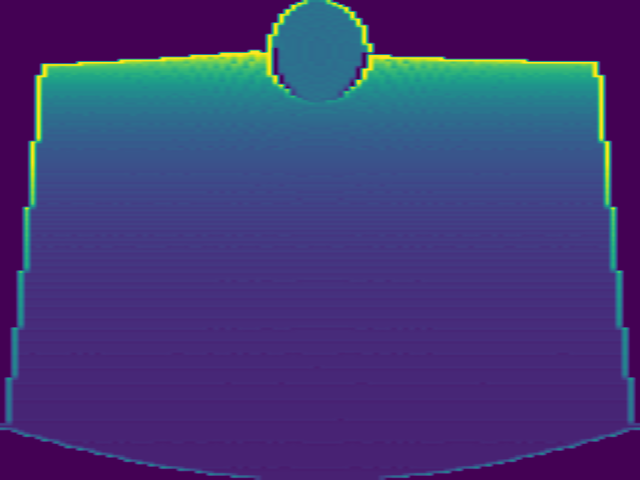sphere: (265, 1, 373, 103)
